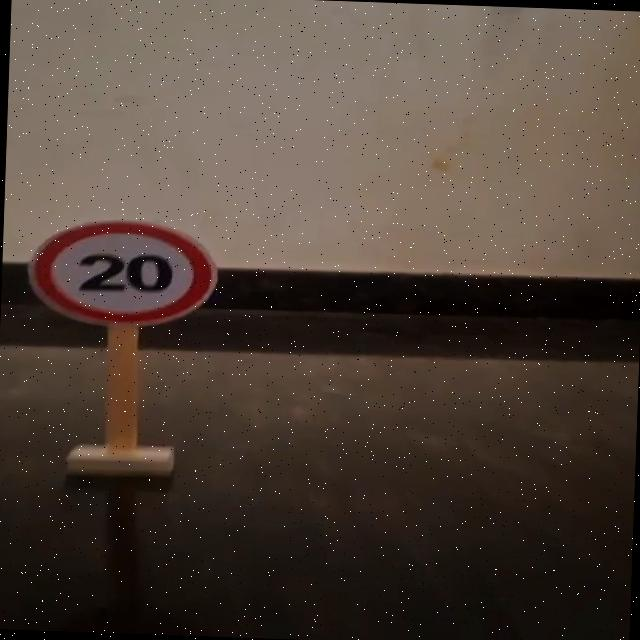Speed20: (17, 216, 228, 340)
